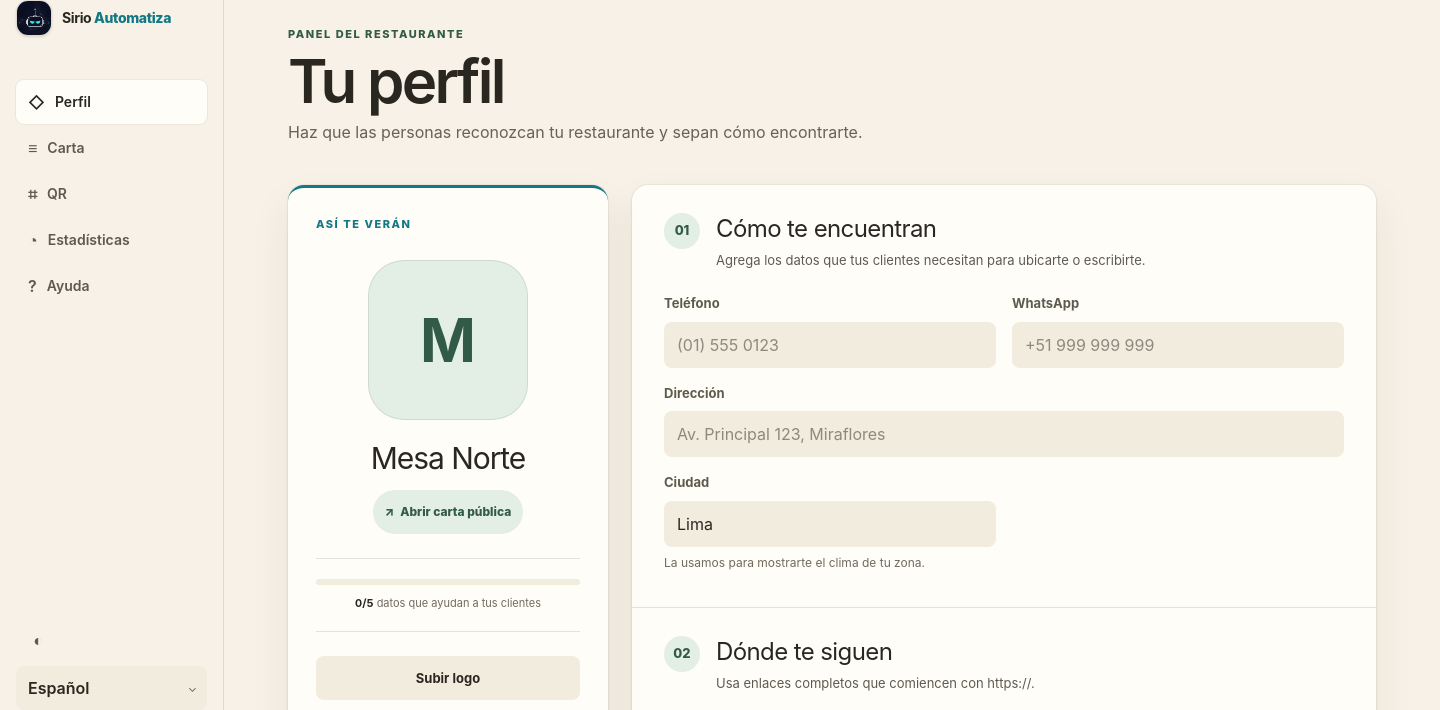
RestaurantProfilePanel › solo vuelve a pedir el clima cuando se guarda otra ciudad
Type "(01) 555-0199" into the field labelled "Teléfono" at (830, 345), box [664,322,996,368]
(page scrolled)
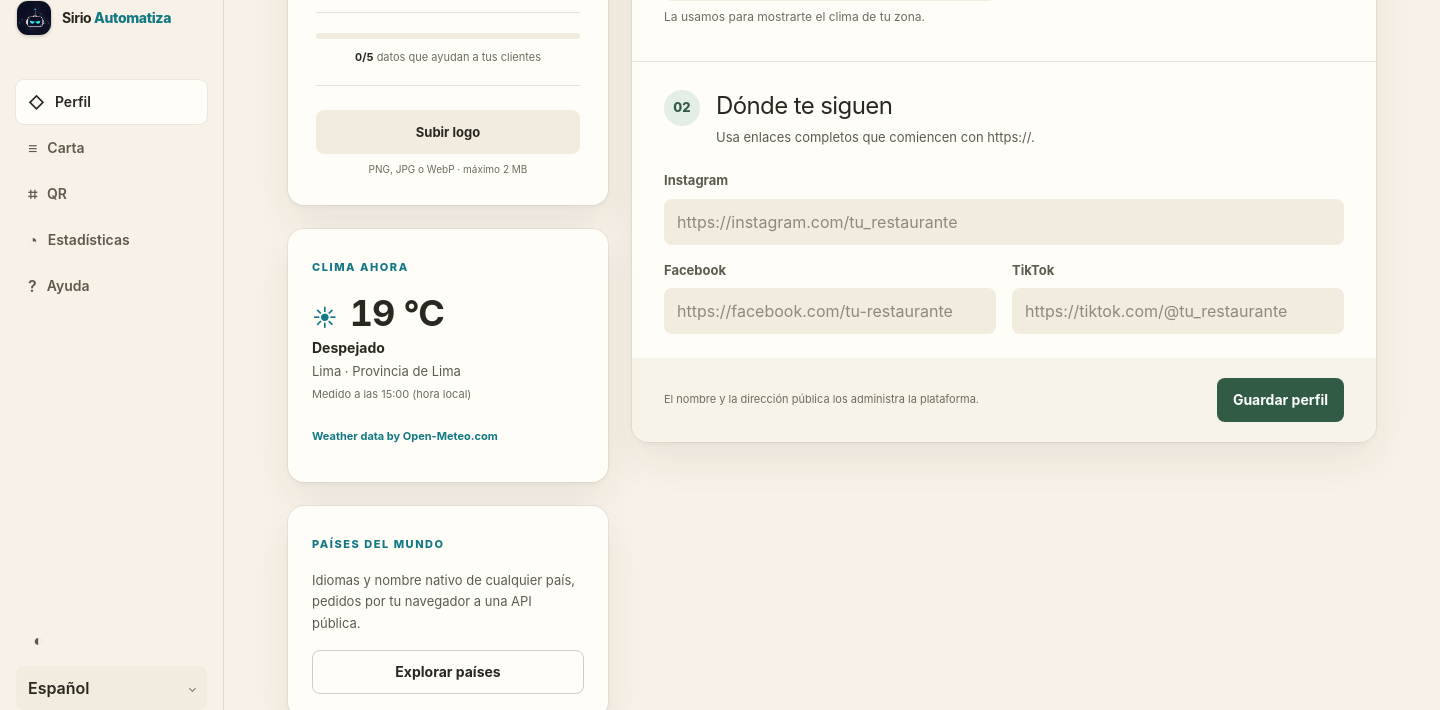
Click the button "Guardar perfil" at (1280, 400), box [1217,378,1344,422]
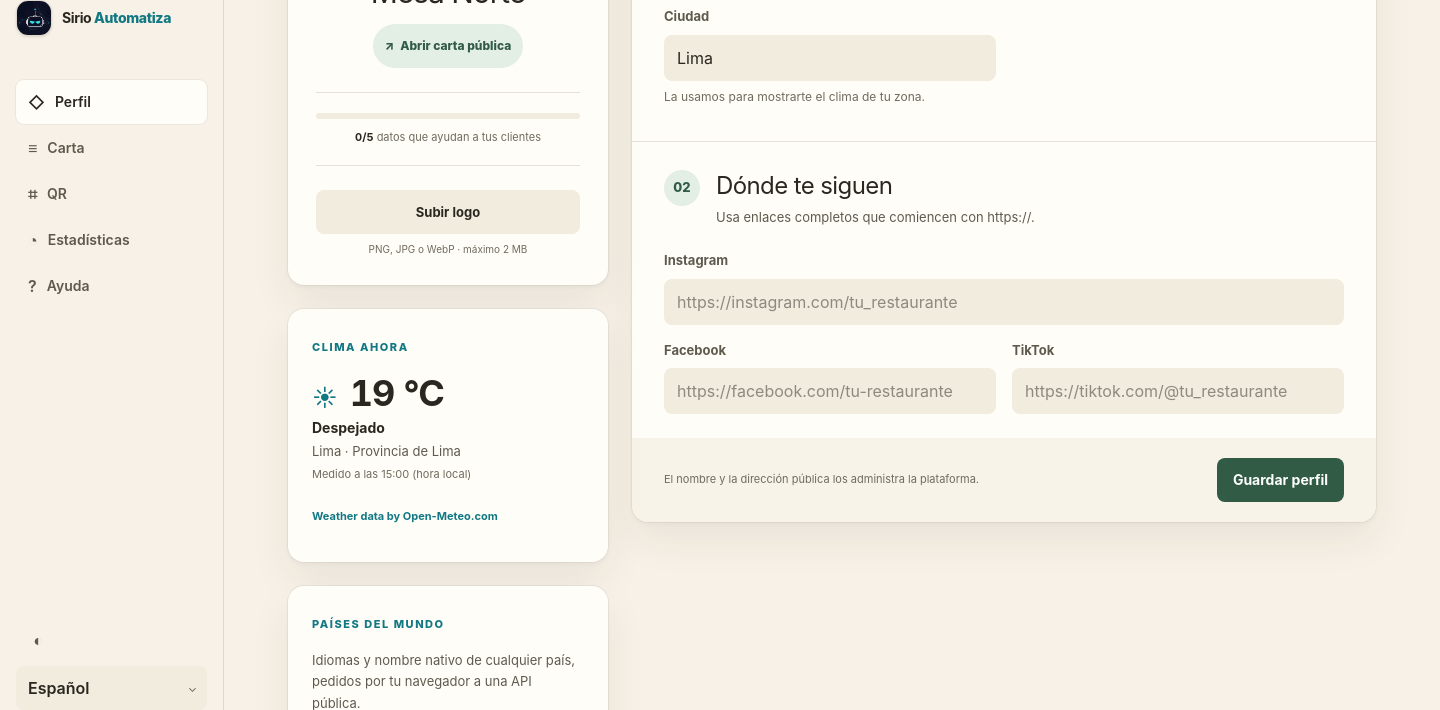
expect the text "19 °C" is shown: met, box [350,373,444,413]
Replace the text in the field labelled "Ciudad La usamos para mostrarte el clima de tu zona." with "Cusco" at (830, 58), box [664,35,996,81]
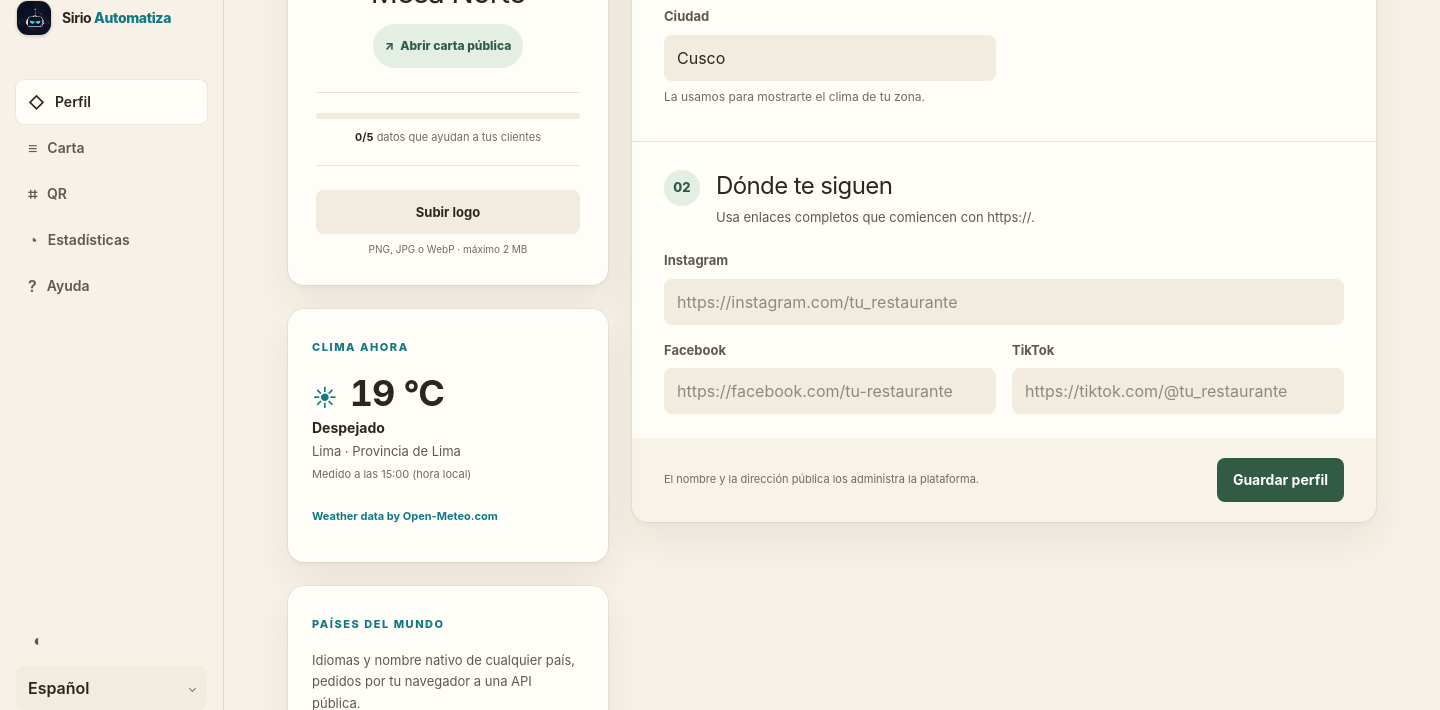
Click the button "Guardar perfil" at (1280, 480), box [1217,458,1344,502]
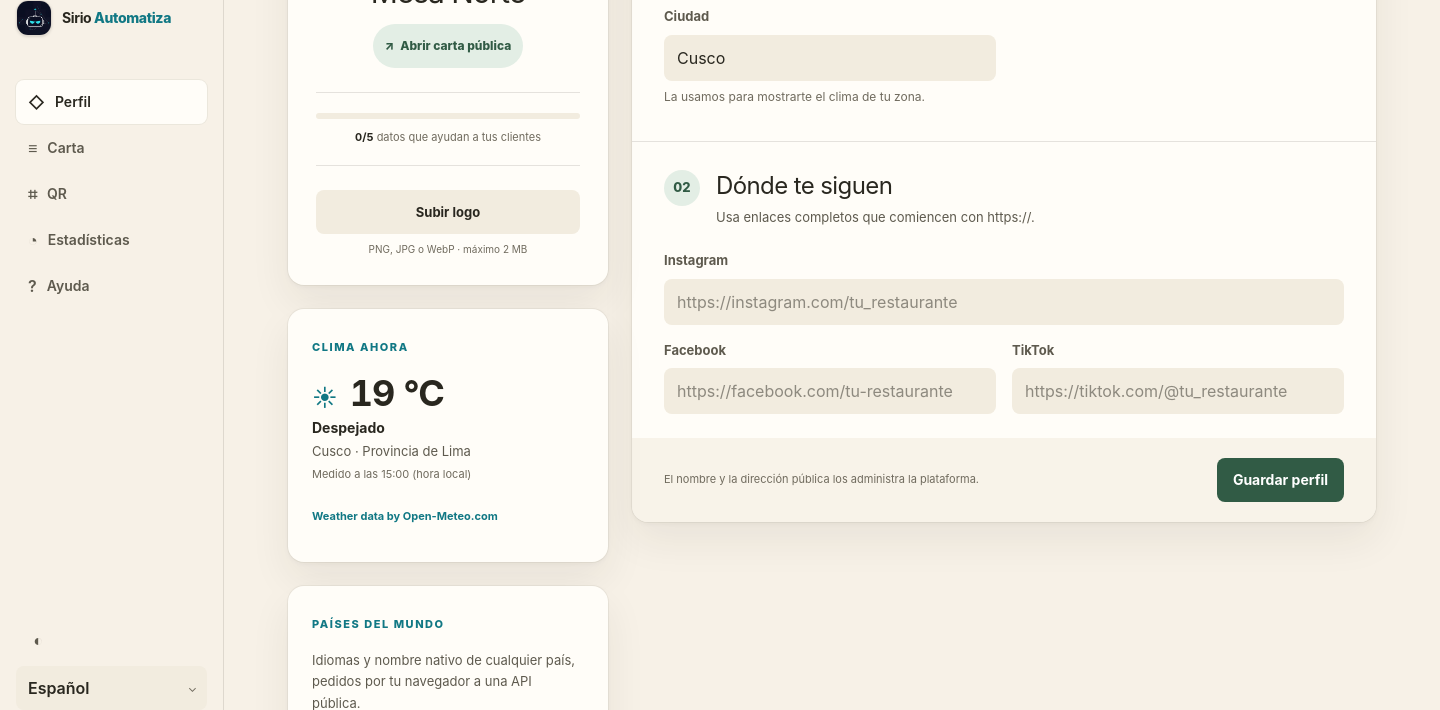
expect the text "Cusco · Provincia de Lima" is shown: met, box [311,442,471,459]
